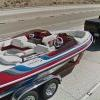Boat: (0, 23, 92, 97)
